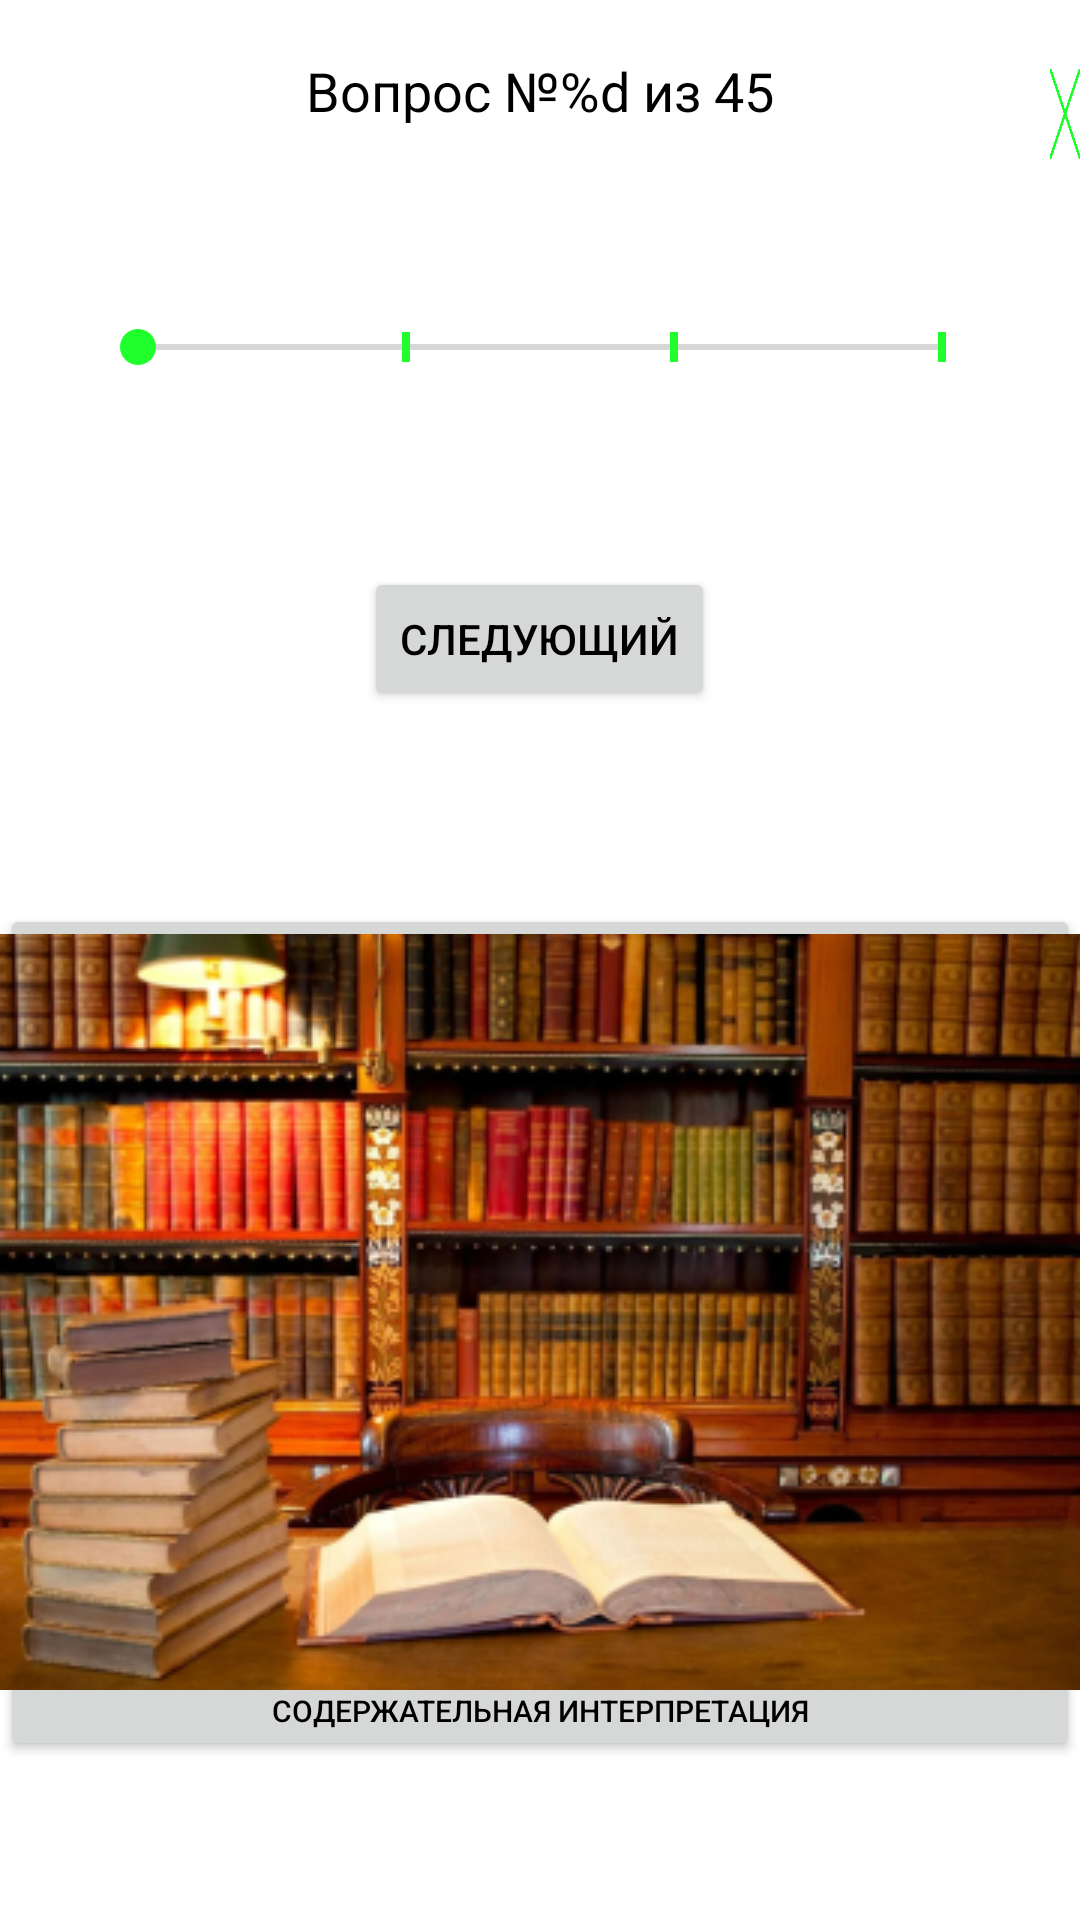

Screen size 1080px×1920px. Icon name, then its center in pixels as (x=x, y=y):
close: (x=1065, y=114)
